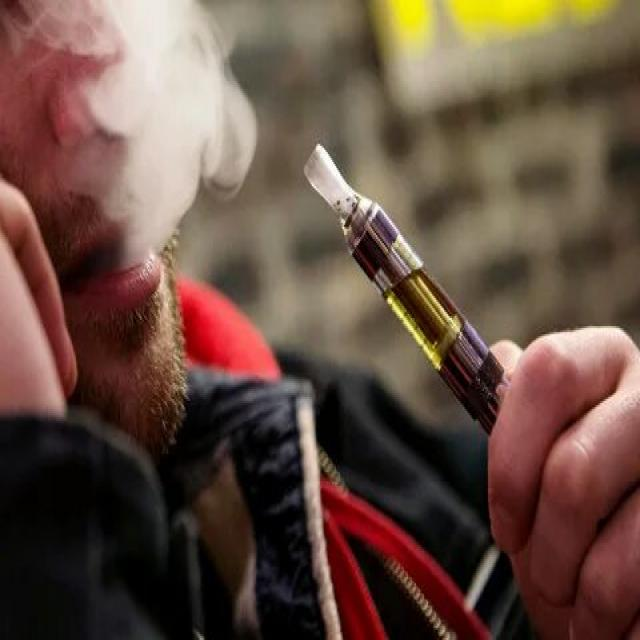smoke: (302, 132, 522, 444)
